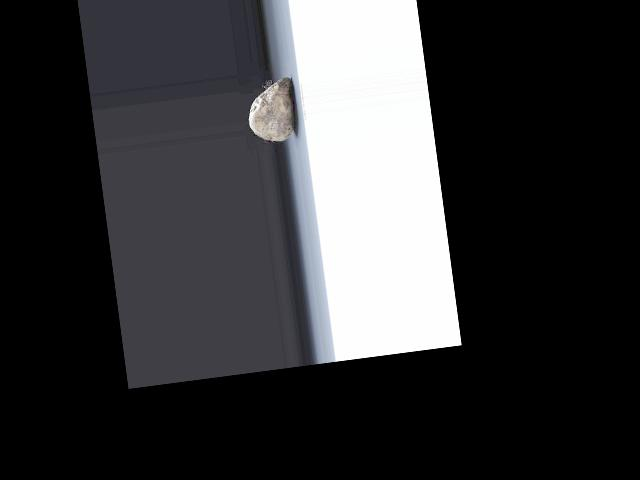beet: (244, 78, 298, 145)
